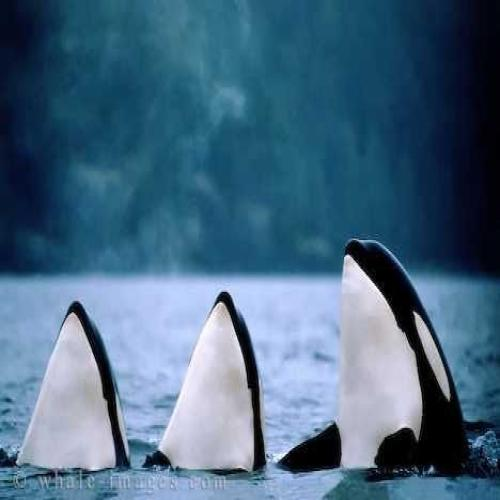killer_whale-endangered: (287, 197, 473, 478), (143, 250, 284, 494), (12, 277, 142, 479)
